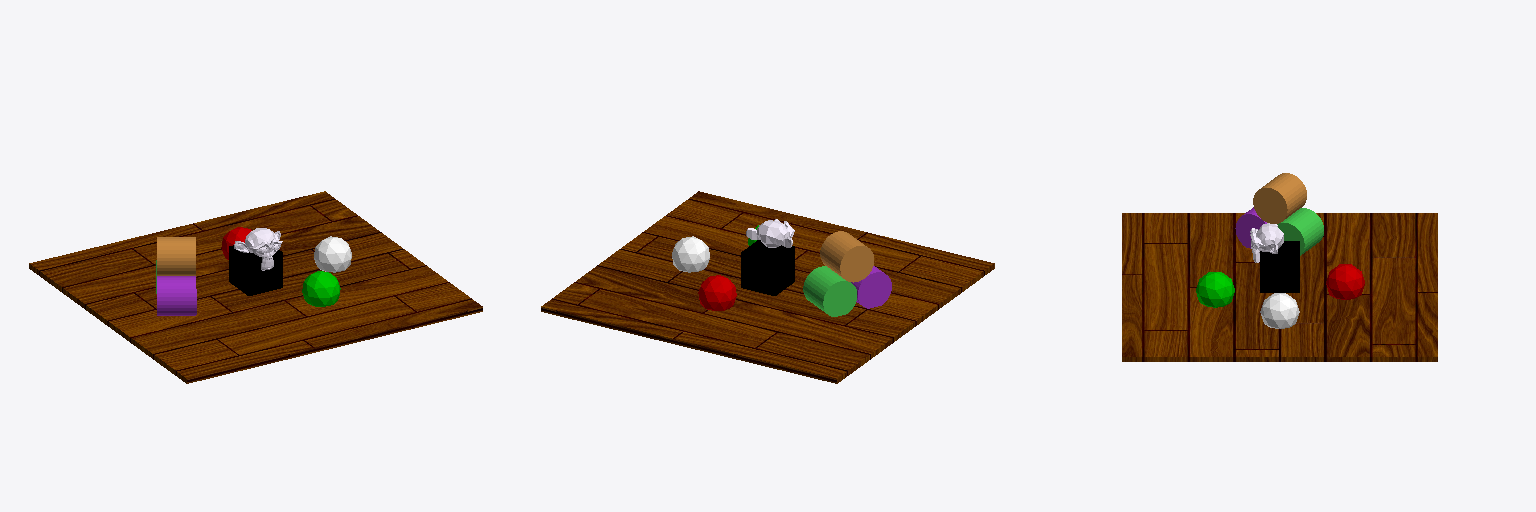
3 views of the same model, side by side, from view 1: azimuth 30°, elevation 25°; view 2: azimuth 150°, elevation 25°; view 3: azimuth 270°, elevation 25° (orthographic).
Visible parts, largest first — view 1: Cube.001, Cube.002, Cylinder.002, Cylinder.001, Suzanne, Icosphere.001, Icosphere; view 2: Cube.001, Cube.002, Cylinder.001, Cylinder, Icosphere.002, Icosphere, Cylinder.002, Suzanne; view 3: Cube.001, Cylinder.001, Cube.002, Cylinder, Icosphere, Icosphere.002, Icosphere.001, Suzanne, Cylinder.002.
Boxes of the visible parts, x1=… form: Cube.001: x1=29, y1=191, x2=482, y2=383; Cube.002: x1=229, y1=245, x2=282, y2=295; Cylinder.002: x1=157, y1=276, x2=196, y2=315; Cylinder.001: x1=157, y1=237, x2=195, y2=275; Suzanne: x1=234, y1=228, x2=282, y2=270; Icosphere.001: x1=302, y1=271, x2=340, y2=306; Icosphere: x1=314, y1=236, x2=351, y2=272; Cube.001: x1=541, y1=191, x2=994, y2=383; Cube.002: x1=741, y1=240, x2=794, y2=295; Cylinder.001: x1=820, y1=231, x2=873, y2=282; Cylinder: x1=803, y1=266, x2=856, y2=316; Icosphere.002: x1=698, y1=275, x2=736, y2=310; Icosphere: x1=672, y1=236, x2=709, y2=272; Cylinder.002: x1=851, y1=266, x2=891, y2=308; Suzanne: x1=746, y1=219, x2=794, y2=247; Cube.001: x1=1122, y1=213, x2=1437, y2=361; Cylinder.001: x1=1253, y1=173, x2=1306, y2=223; Cube.002: x1=1260, y1=241, x2=1299, y2=292; Cylinder: x1=1277, y1=208, x2=1323, y2=255; Icosphere: x1=1260, y1=293, x2=1299, y2=328; Icosphere.002: x1=1326, y1=264, x2=1364, y2=299; Icosphere.001: x1=1196, y1=272, x2=1234, y2=307; Suzanne: x1=1250, y1=223, x2=1283, y2=262; Cylinder.002: x1=1235, y1=207, x2=1266, y2=248.
Size of the model in its own units: 17.23 by 4.07 by 15.9.
9 materials, 1 textured.